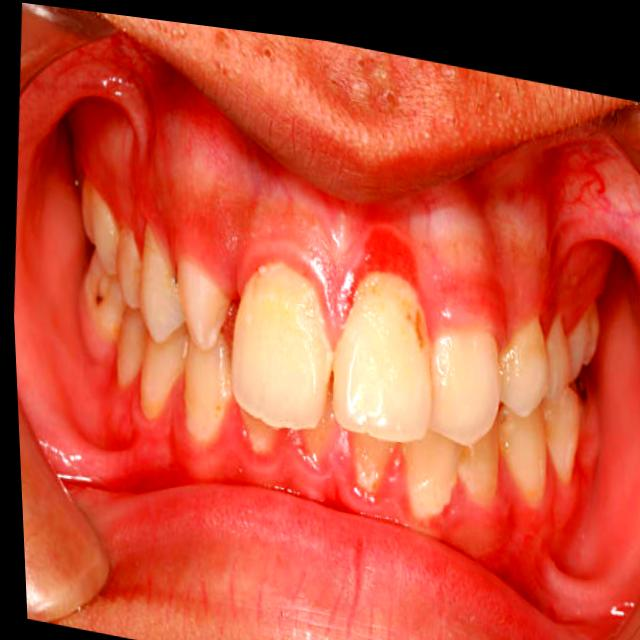gingivitis: (104, 116, 589, 343)
